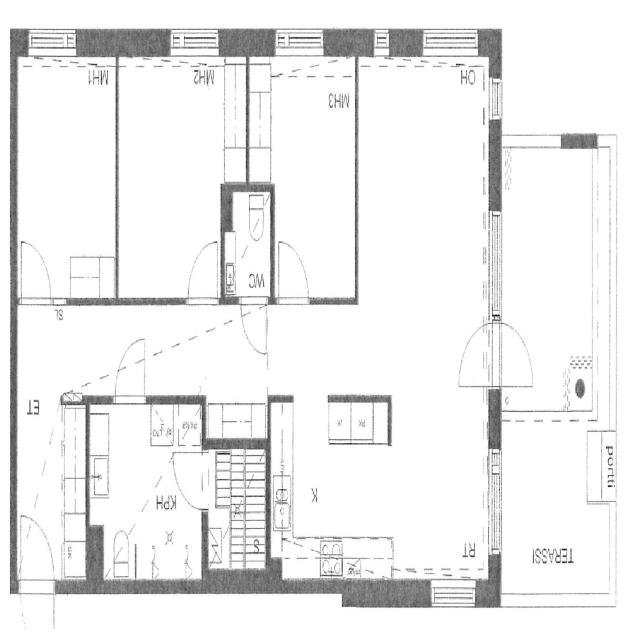door: (17, 509, 59, 633), (452, 314, 499, 394), (496, 317, 538, 393), (182, 231, 222, 308), (112, 333, 150, 411), (274, 233, 312, 306), (17, 234, 53, 306), (172, 444, 208, 511), (238, 293, 269, 358), (52, 292, 68, 330)
window: (484, 434, 505, 569), (483, 200, 505, 325), (420, 22, 482, 62), (24, 23, 80, 66), (500, 121, 569, 155), (271, 23, 329, 61), (167, 23, 224, 61), (427, 584, 478, 610), (484, 66, 504, 132), (370, 25, 392, 61)
zone: (347, 47, 496, 584), (112, 49, 238, 302), (496, 138, 600, 420), (251, 44, 358, 303), (15, 51, 119, 304), (272, 396, 398, 582), (87, 401, 205, 584), (14, 352, 90, 593), (202, 440, 271, 580), (225, 184, 273, 300)
